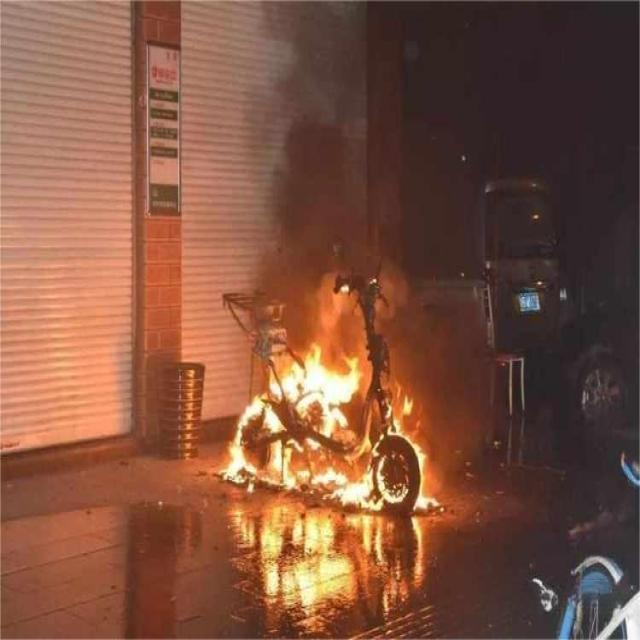fire: (227, 341, 442, 515)
